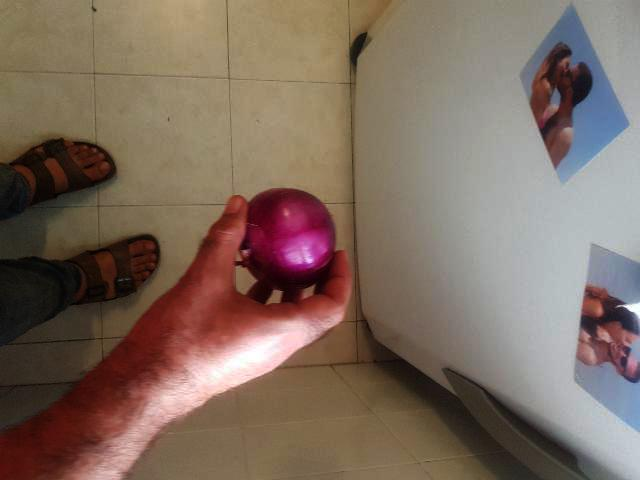onion: (235, 185, 333, 299)
